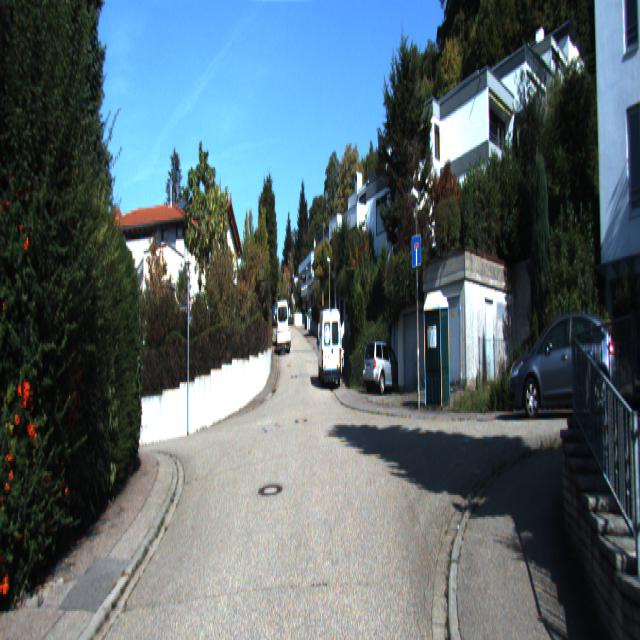Car: (508, 301, 619, 421), (362, 340, 407, 396), (317, 306, 343, 388), (276, 300, 290, 348), (276, 326, 291, 350)
